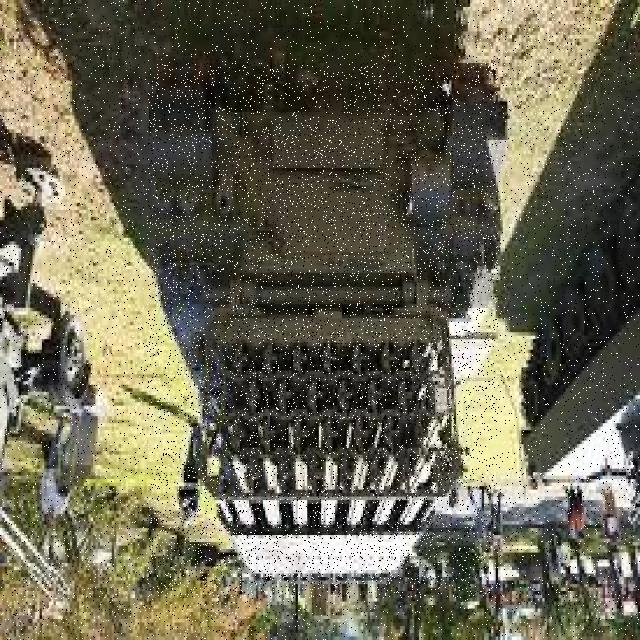MIL_MBT: (147, 63, 498, 598), (521, 231, 638, 507)
